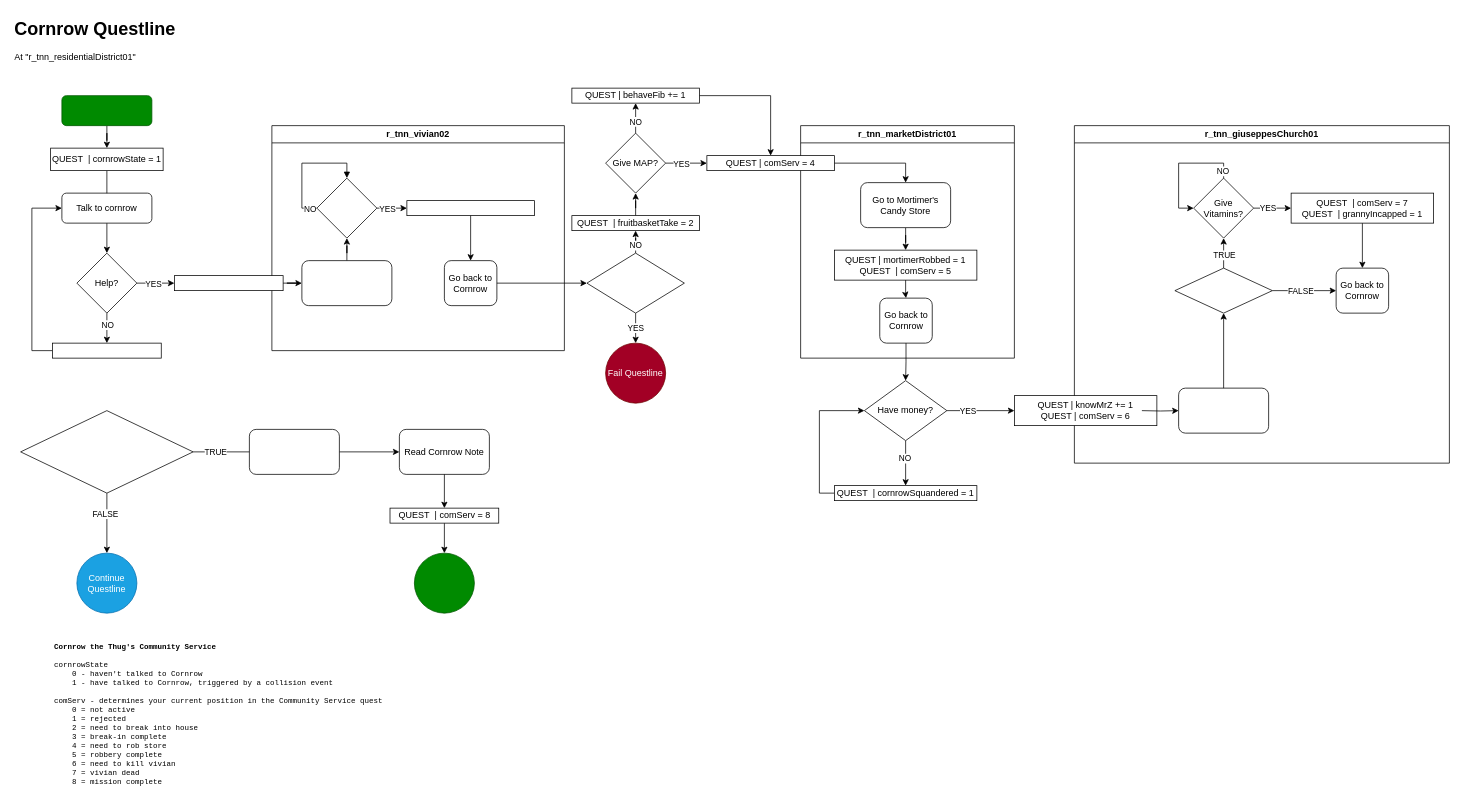
Image size: 1463x806. Some labels were removed from this diagram. Each missing label, with the centre of its shape:
"Cornrow and Juicebox get kidnapped" belongs at (x=294, y=451).
"Gave Fruits to Kelpster?" belongs at (x=635, y=282).
"Go near Cornrow" belongs at (x=106, y=110).
"Go to Granny's House" belongs at (x=346, y=283).
"IF curfew == before" belongs at (x=1223, y=290).
"QUEST | comServ = 1" belongs at (x=106, y=350).
"QUEST | comServ = 2" belongs at (x=228, y=283).
"QUEST | comServ = 7 OR IF curfew != before" belongs at (x=106, y=451).
"QUEST | fruitbasketTake = 1" belongs at (x=470, y=208).
"Questline Concluded!" belongs at (x=444, y=582).
"Take Fruit Basket" belongs at (x=346, y=207).
"Talk to Vivian" belongs at (x=1223, y=410).
